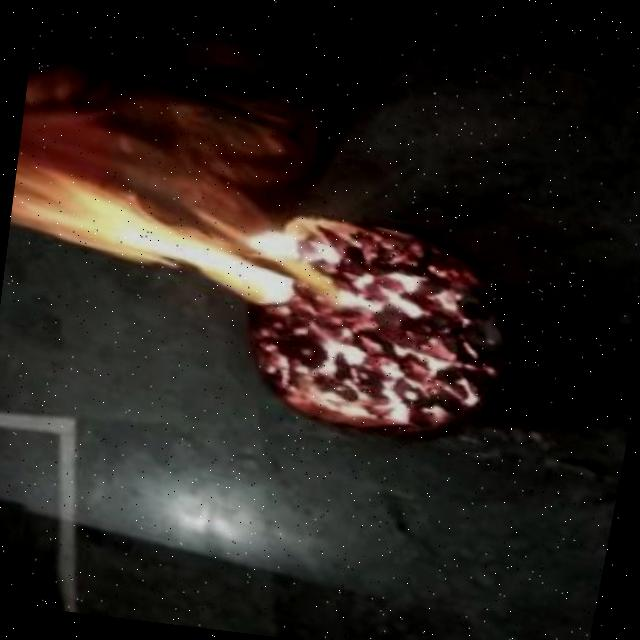fire: (0, 99, 356, 341), (220, 299, 506, 461), (303, 204, 533, 374)
